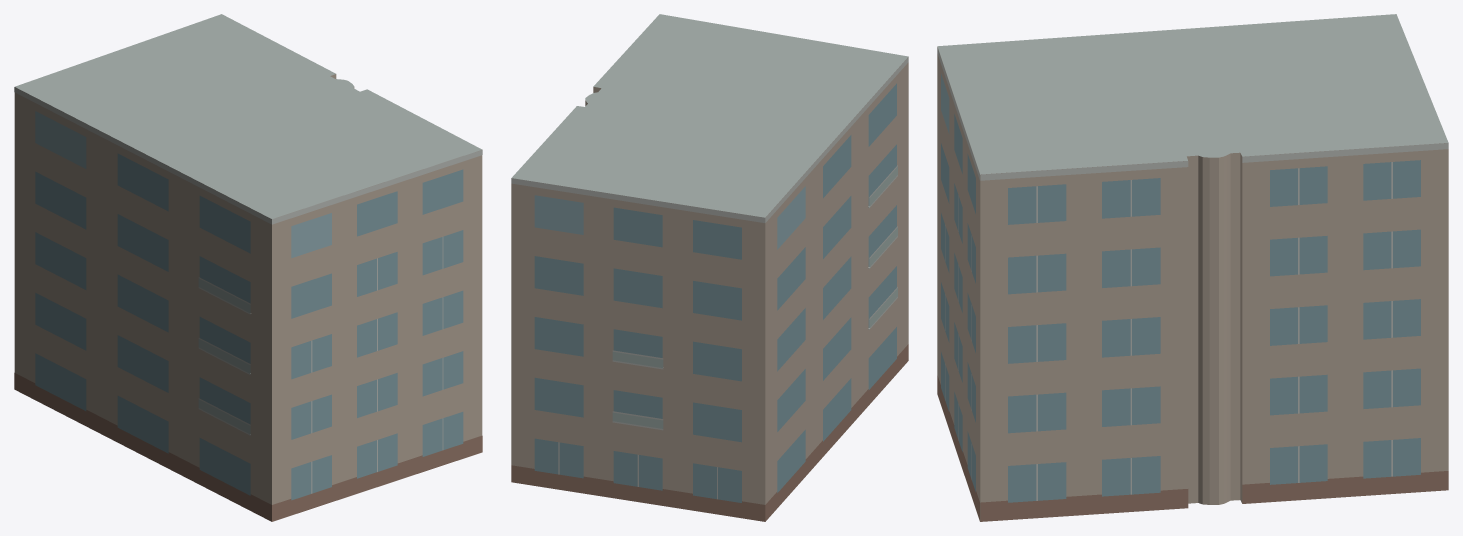
Rendered from survey-upis-32577289.glb.
3 renders of one model, left to right at view 1: azimuth 30°, elevation 25°; view 2: azimuth 150°, elevation 25°; view 3: azimuth 270°, elevation 25°, orthographic. The views are drawn at different scales.
Parts seen in each view (by area): view 1: survey-upis-32577289.tmp; view 2: survey-upis-32577289.tmp; view 3: survey-upis-32577289.tmp.
Boxes of the visible parts, left/top/right/bottom form: survey-upis-32577289.tmp: left=14, top=14, right=482, bottom=521; survey-upis-32577289.tmp: left=511, top=14, right=908, bottom=521; survey-upis-32577289.tmp: left=937, top=14, right=1448, bottom=521.
Size of the model in its own units: 13.34 by 13.45 by 17.95.
